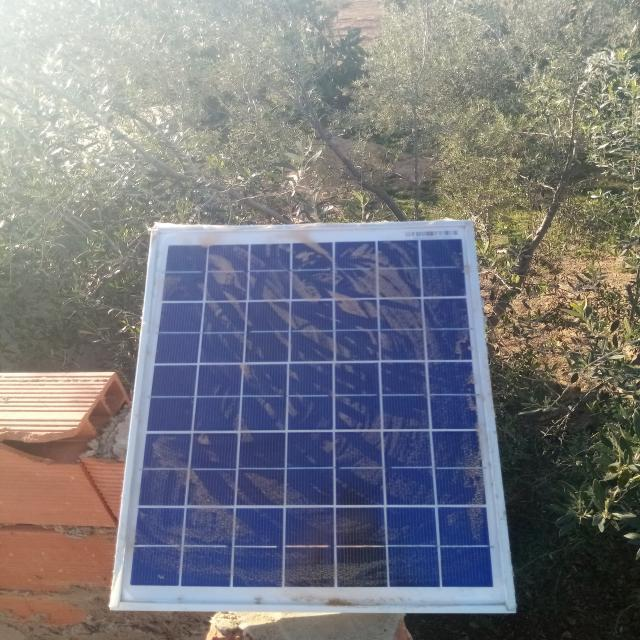faulty: (109, 220, 515, 612)
